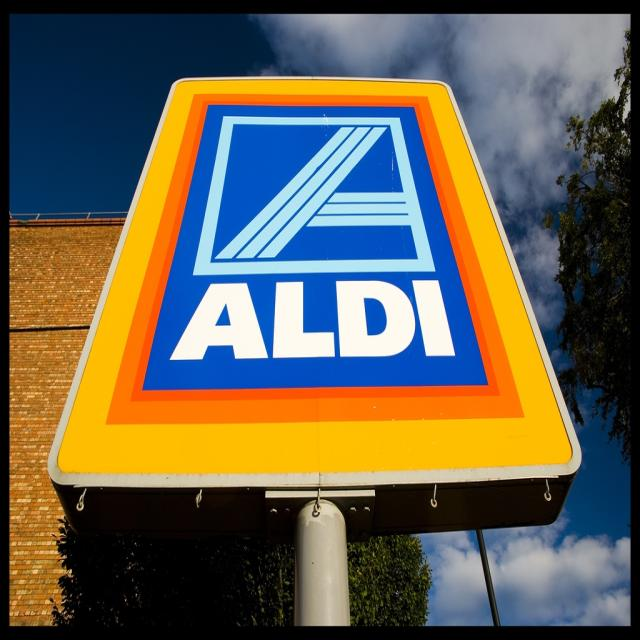aldi: (55, 81, 576, 474)
